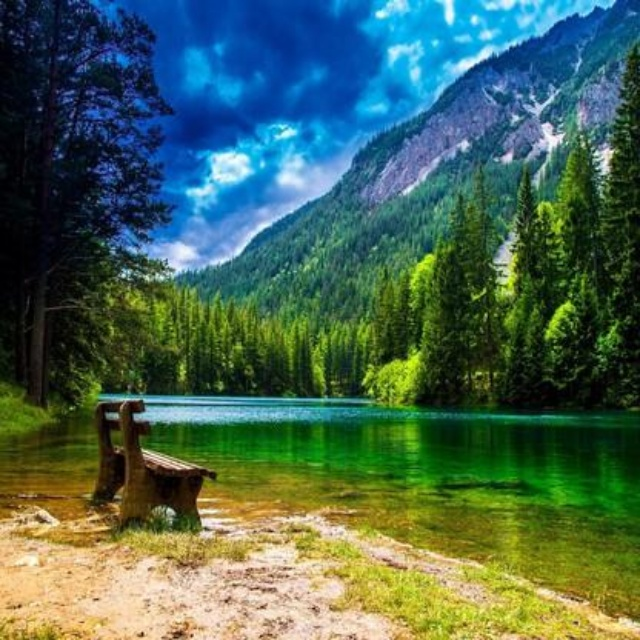obstacle: (92, 383, 220, 566)
